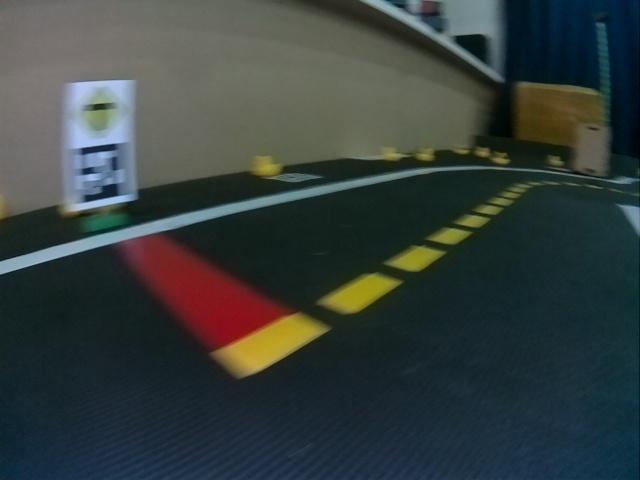Duckie: (252, 157, 274, 176), (383, 147, 400, 160), (492, 152, 511, 163), (417, 148, 433, 160), (549, 156, 563, 167), (476, 146, 486, 156), (456, 145, 468, 151)
Intersection sign: (66, 81, 133, 137)
QR code: (67, 143, 138, 204), (272, 173, 320, 183)
